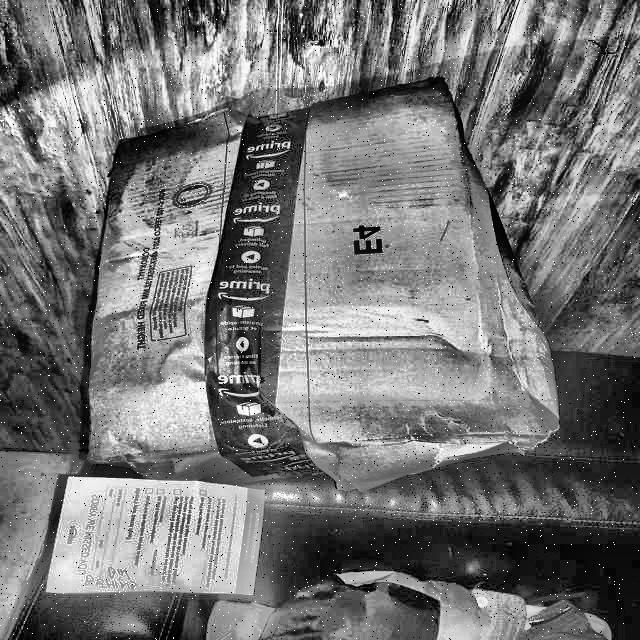box: (59, 58, 568, 507)
wet: (100, 105, 236, 243), (305, 389, 555, 454), (307, 80, 457, 135)
